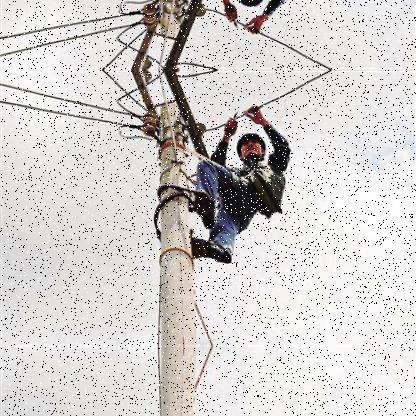Helmet: (230, 130, 268, 167)
